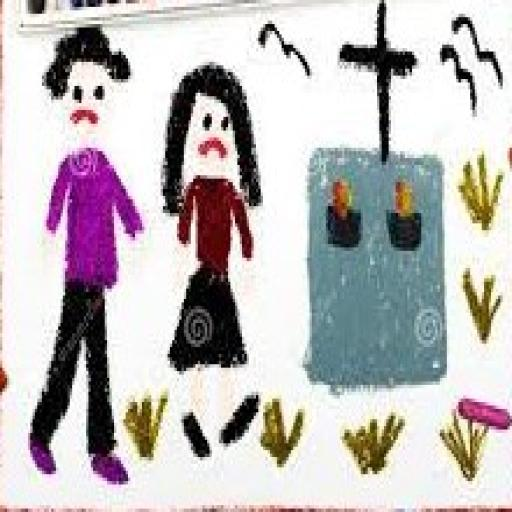person: (20, 16, 150, 495), (156, 51, 268, 473)
